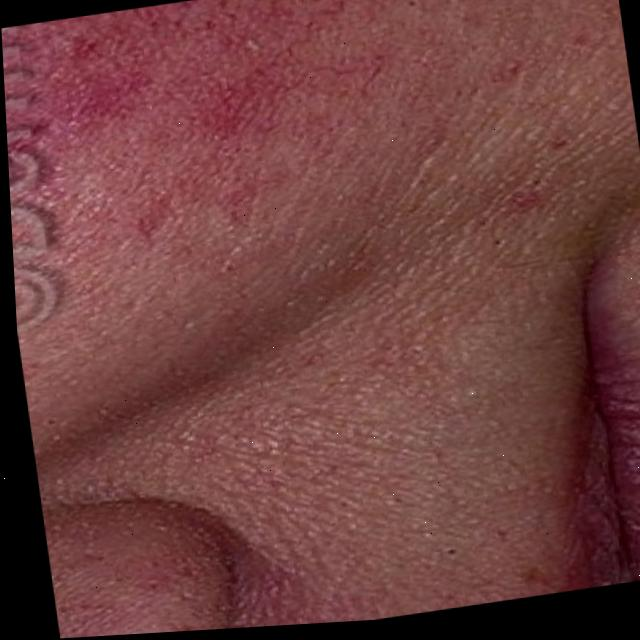Rosacea: (15, 0, 320, 269)
